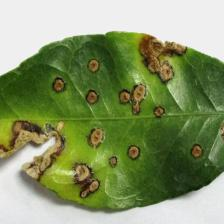canker: (0, 28, 208, 200)
